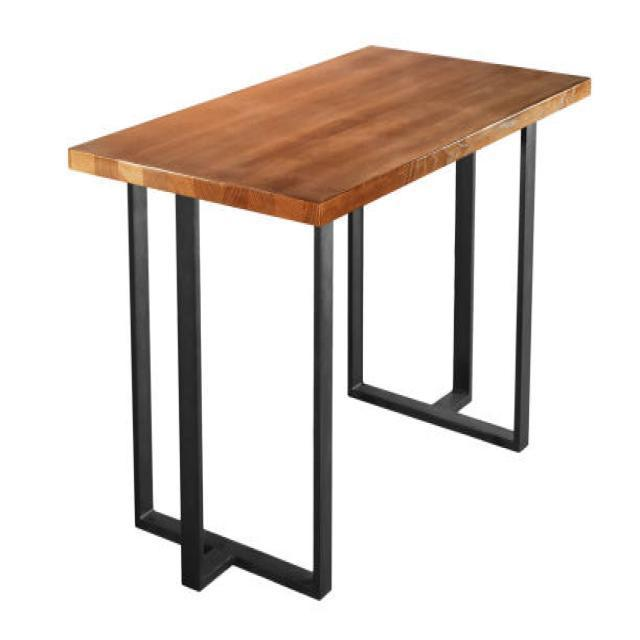table: (67, 42, 591, 600)
